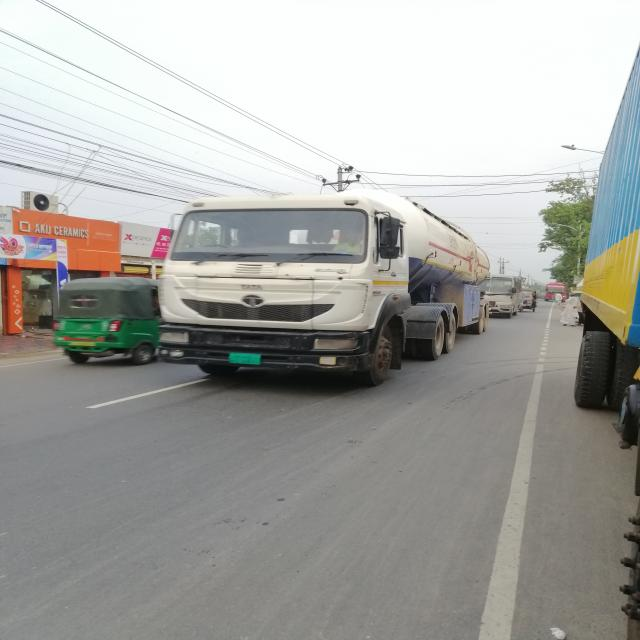CNG: (52, 271, 163, 359)
Truck: (159, 188, 492, 391)
